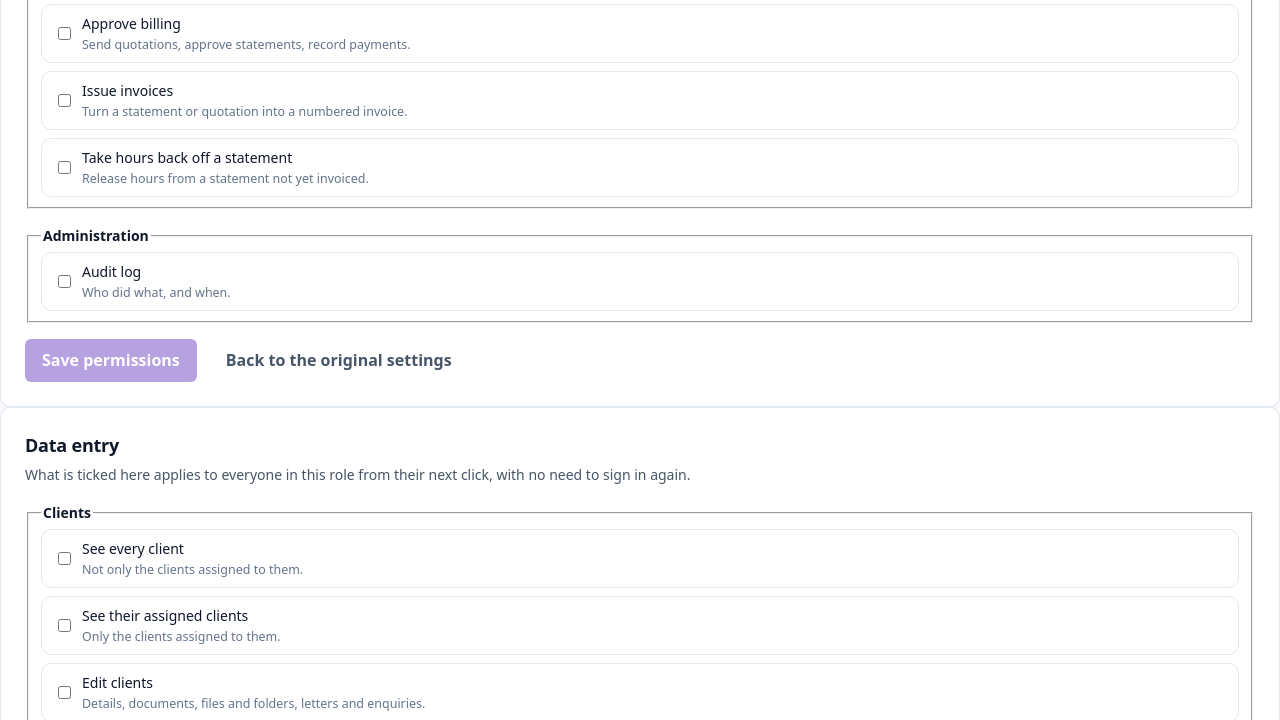
it: roles and permissions › puts the original settings back in the boxes before saving
(page scrolled)
Click the button "Back to the original settings" at (339, 361), box [209, 339, 469, 382]
(page scrolled)
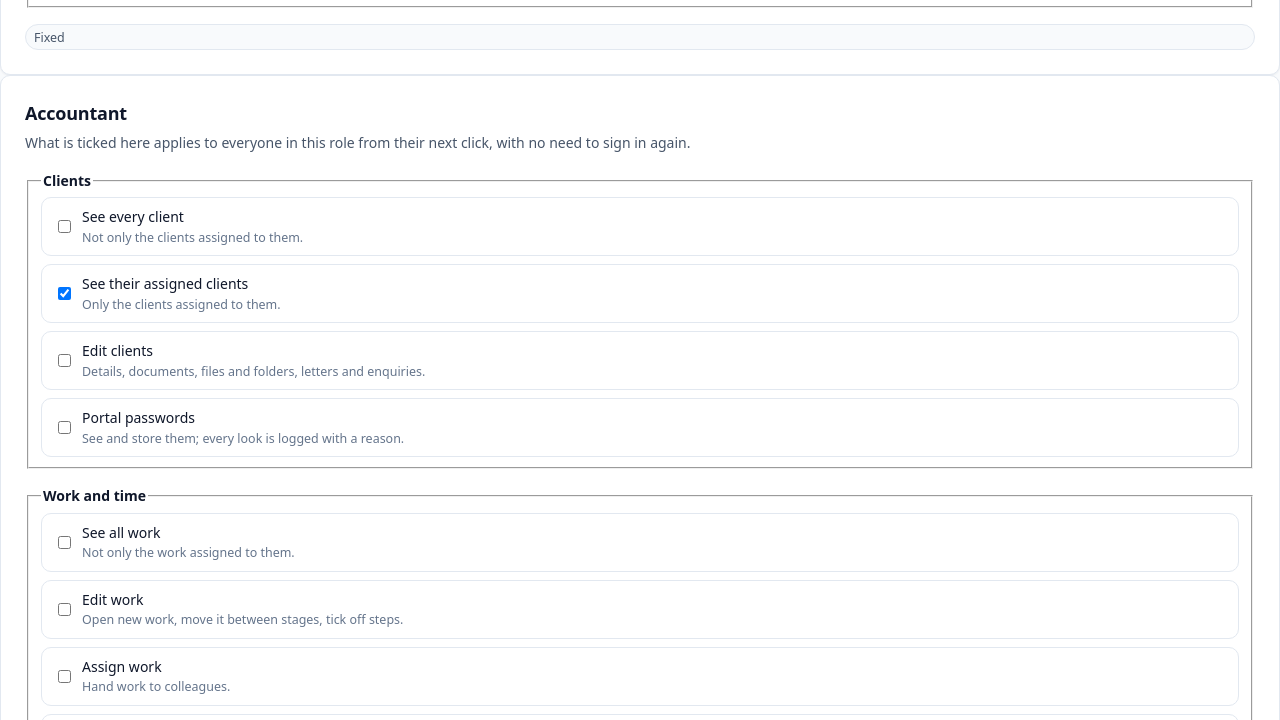
Expected: the checkbox labelled "Edit clients" is not checked, [58, 354, 71, 367]
